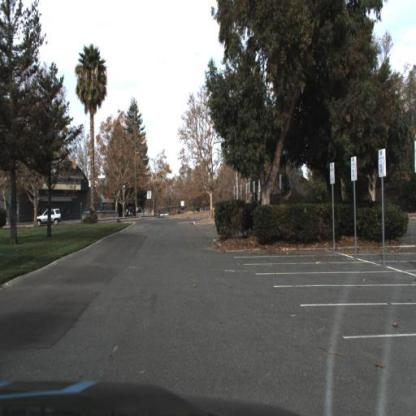car: (37, 207, 66, 228)
